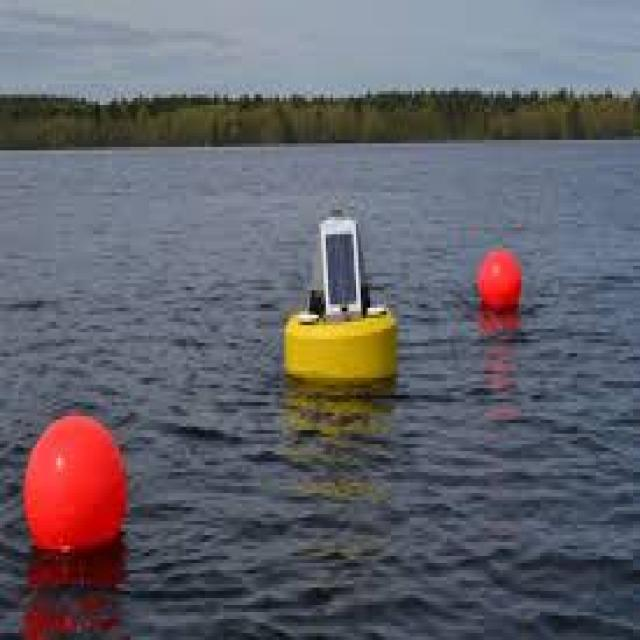buoy: (273, 188, 417, 409), (18, 389, 127, 574), (470, 238, 534, 323)
